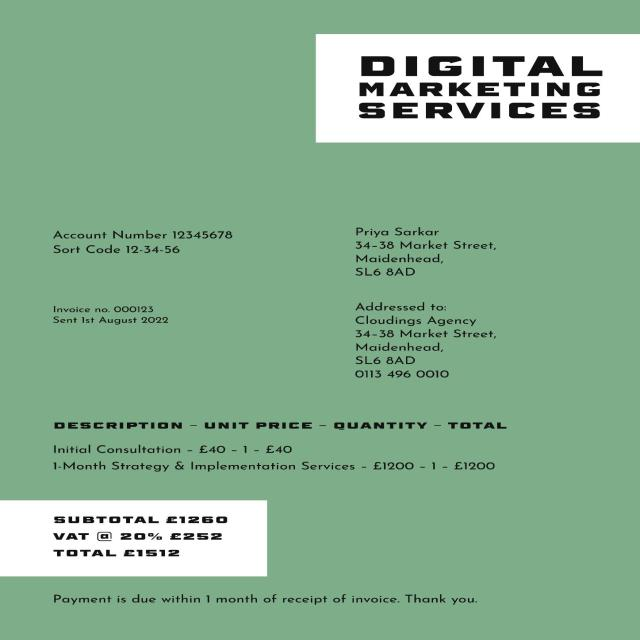paragraph: (40, 406, 532, 488), (346, 33, 614, 129), (336, 298, 502, 387), (46, 585, 482, 617), (44, 506, 242, 575), (334, 214, 496, 292), (36, 217, 240, 260), (50, 300, 186, 332)
